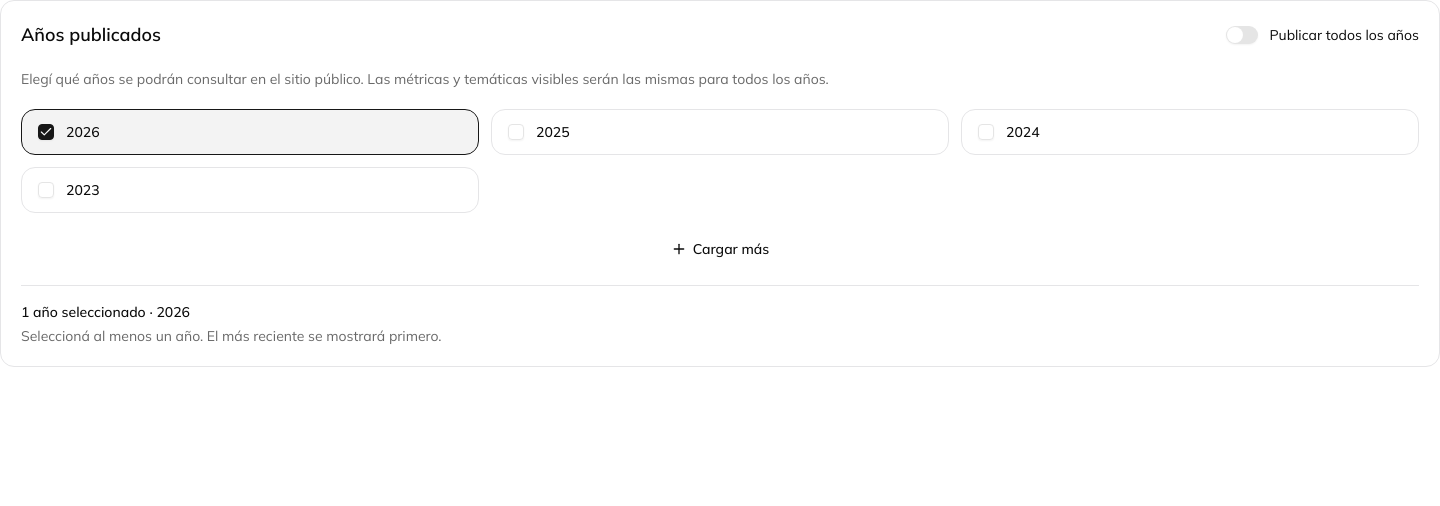
Test: reveals two rows at a time with wide=false
Expected: the number of checkboxes is 4, [38,124,54,140]; [508,124,524,140]; [978,124,994,140]; [38,182,54,198]
Click the button "Cargar más" at (720, 249), box [661,233,779,265]
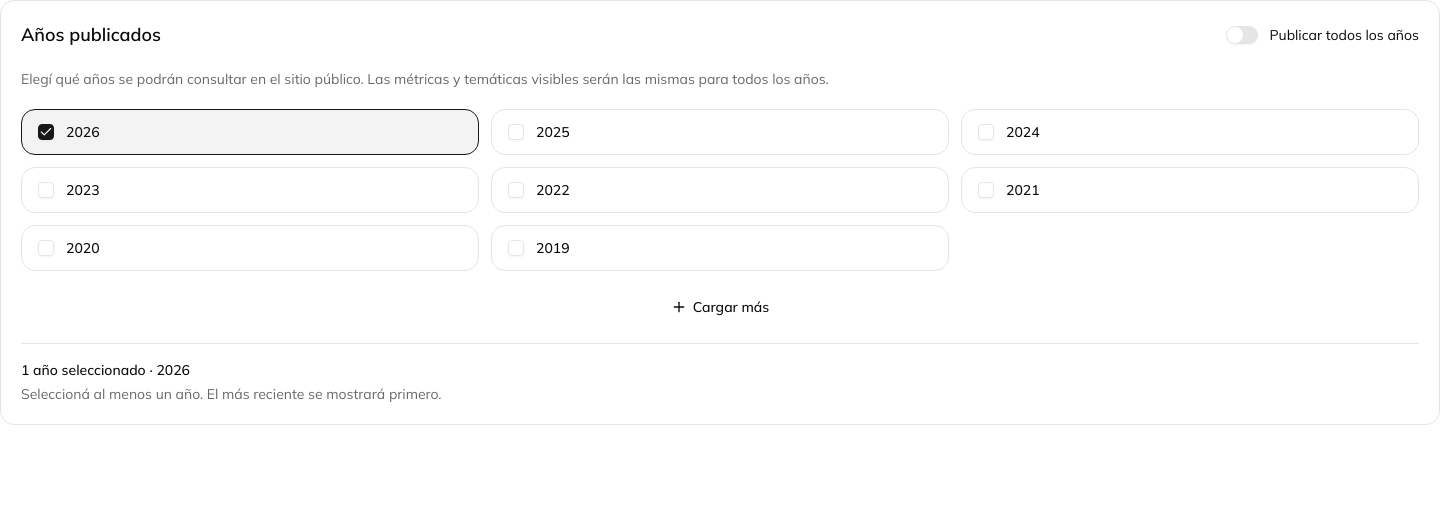
Expected: the number of checkboxes is 8
Click the button "Cargar más" at (720, 307), box [661,291,779,323]
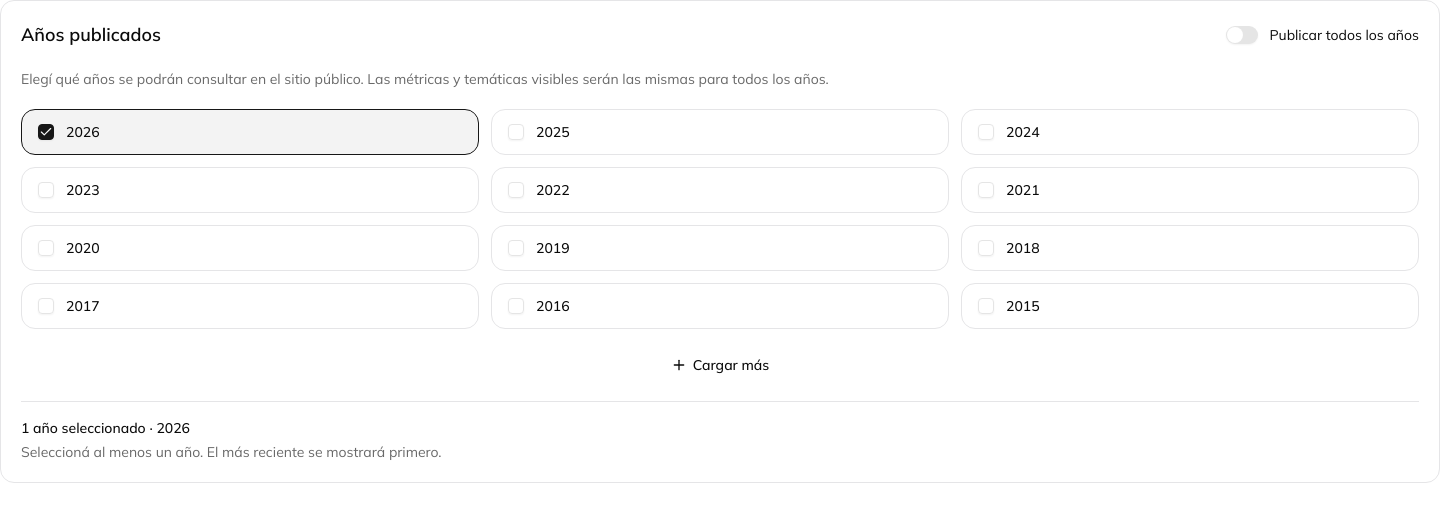
Expected: the number of checkboxes is 12
Click the button "Cargar más" at (720, 365), box [661,349,779,381]
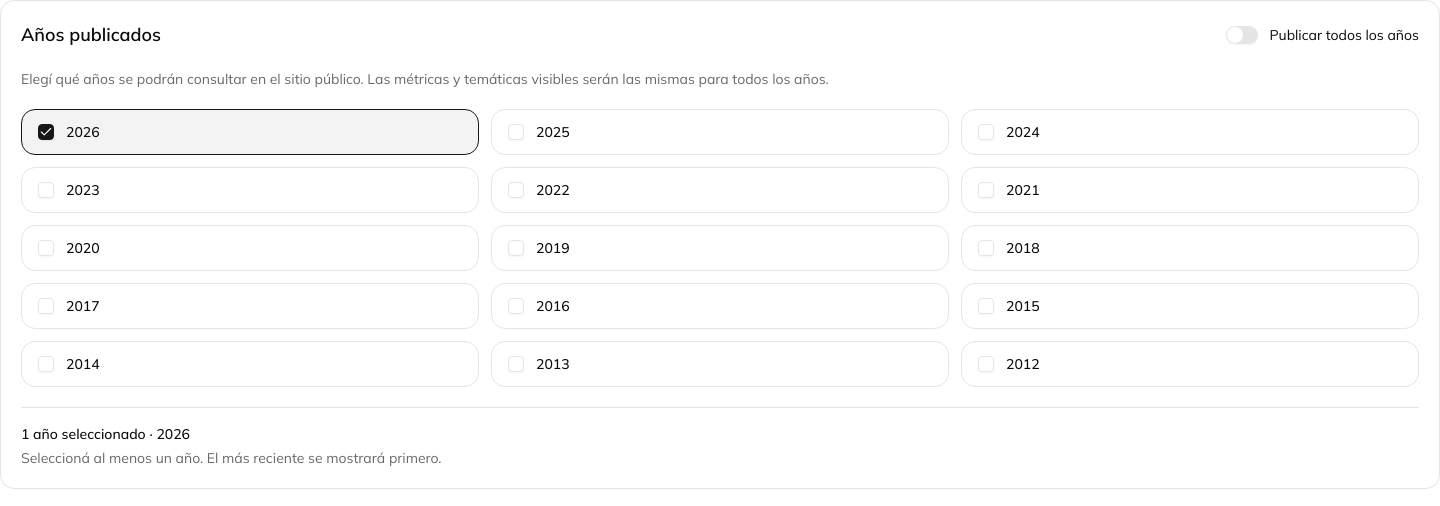
Expected: the button "Cargar más" is gone
